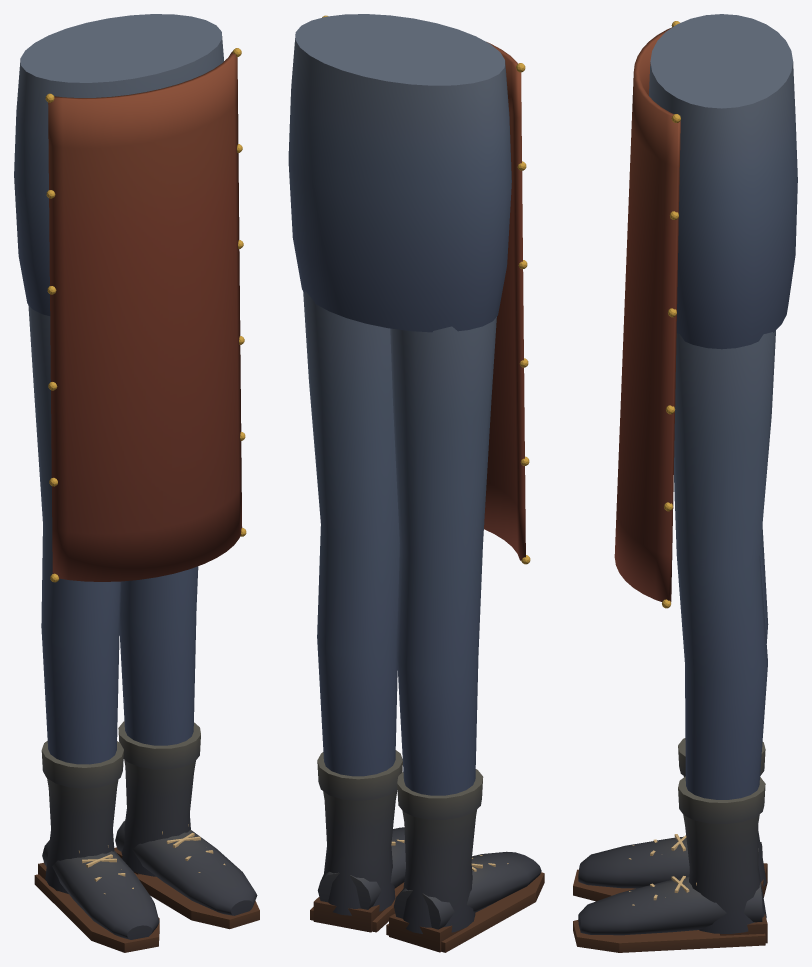
Rendered from merchant_aron_lower.glb.
3 renders of one model, left to right at view 1: azimuth 30°, elevation 25°; view 2: azimuth 150°, elevation 25°; view 3: azimuth 270°, elevation 25°, orthographic. The views are drawn at different scales.
Parts seen in each view (by area): view 1: merchant_aron_lower; view 2: merchant_aron_lower; view 3: merchant_aron_lower.
Part boxes in pixels (<box>): merchant_aron_lower: <box>14,14,259,952</box>; merchant_aron_lower: <box>288,14,544,952</box>; merchant_aron_lower: <box>573,14,797,952</box>.
Bounding box in the file's own units: 1.03 × 4.07 × 0.9733.
Materials: 1 (1 with a texture image).
